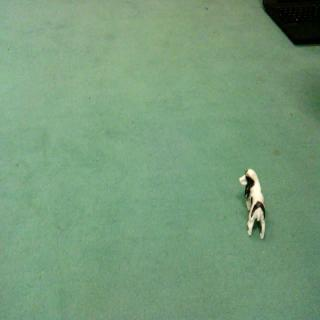dog: (232, 163, 276, 246)
